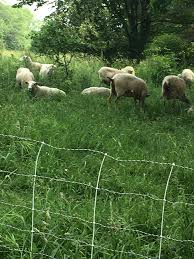sheep: (110, 72, 149, 104), (20, 56, 62, 83), (162, 74, 188, 108), (27, 79, 64, 102), (76, 84, 116, 104), (95, 66, 143, 82), (16, 64, 37, 83), (181, 66, 194, 80)
